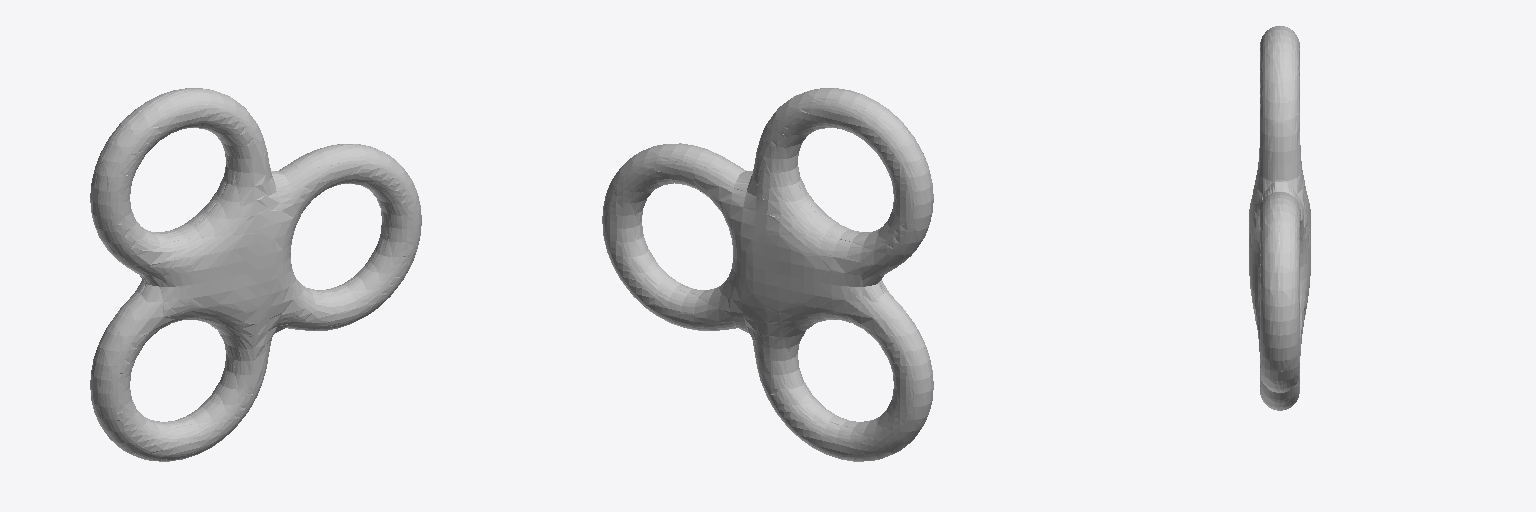
3 renders of one model, left to right at view 1: azimuth 30°, elevation 25°; view 2: azimuth 150°, elevation 25°; view 3: azimuth 270°, elevation 25°, orthographic.
Parts seen in each view (by area): view 1: <STL_BINARY>; view 2: <STL_BINARY>; view 3: <STL_BINARY>.
Boxes of the visible parts, <box> form: <STL_BINARY>: <box>90,88,421,461</box>; <STL_BINARY>: <box>602,88,933,461</box>; <STL_BINARY>: <box>1249,26,1310,410</box>.
Bounding box in the file's own units: 4.75 × 5.1 × 0.7861.